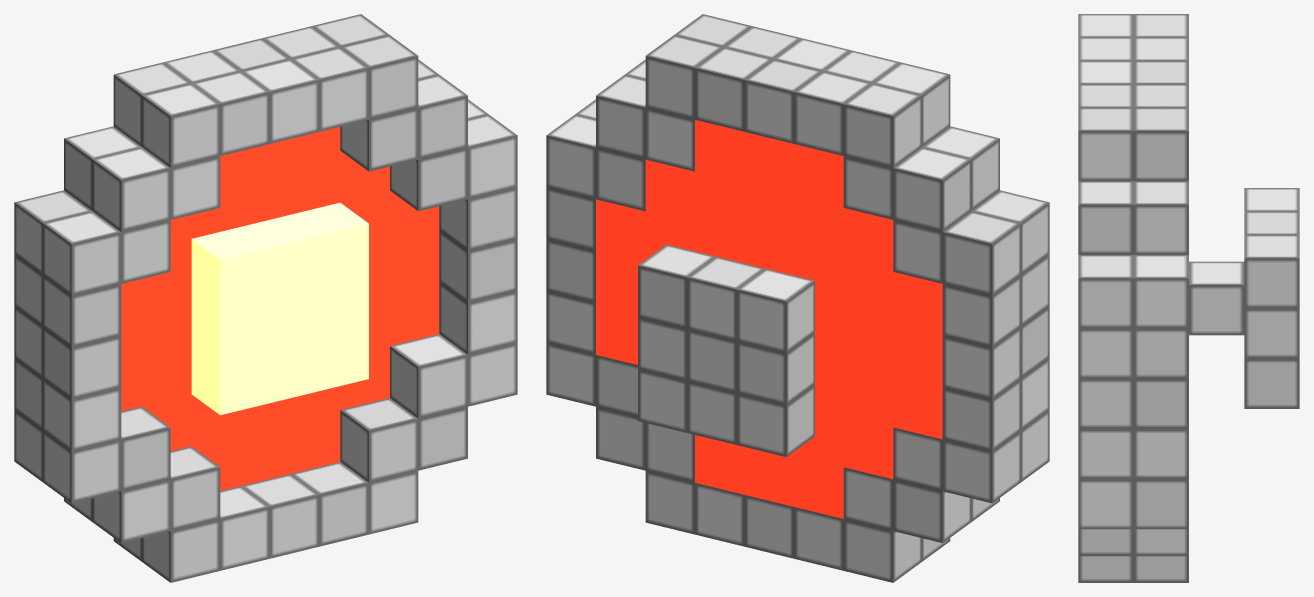
The model's file is wall_lamp.glb.
3 renders of one model, left to right at view 1: azimuth 30°, elevation 25°; view 2: azimuth 150°, elevation 25°; view 3: azimuth 270°, elevation 25°, orthographic. The views are drawn at different scales.
Visible parts, largest first — view 1: wall_lamp; view 2: wall_lamp; view 3: wall_lamp.
Boxes of the visible parts, box(x1,y1,x2,y2) form: wall_lamp: box(14, 14, 517, 582); wall_lamp: box(546, 14, 1049, 582); wall_lamp: box(1078, 14, 1299, 582).
Size of the model in its own units: 0.45 by 0.45 by 0.2.
3 materials, 1 textured.
